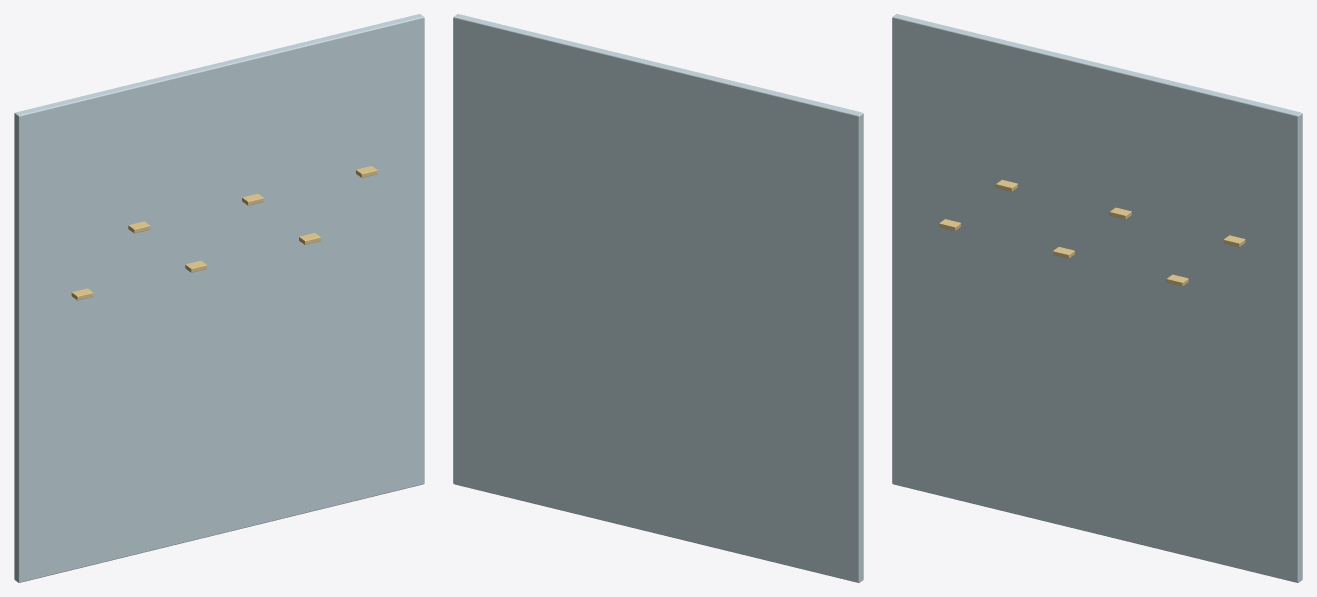
The model's file is nursery_paint_stars.glb.
The picture shows the model from 3 angles, left to right: view 1: azimuth 30°, elevation 25°; view 2: azimuth 150°, elevation 25°; view 3: azimuth 330°, elevation 25°; orthographic projection.
Parts seen in each view (by area): view 1: Tint.006; view 2: Tint.006; view 3: Tint.006.
Part boxes in pixels (x1,y1,x2,y2): Tint.006: (14,14,424,582); Tint.006: (453,14,863,582); Tint.006: (892,14,1302,582).
Size of the model in its own units: 2 by 2.2 by 0.09.
